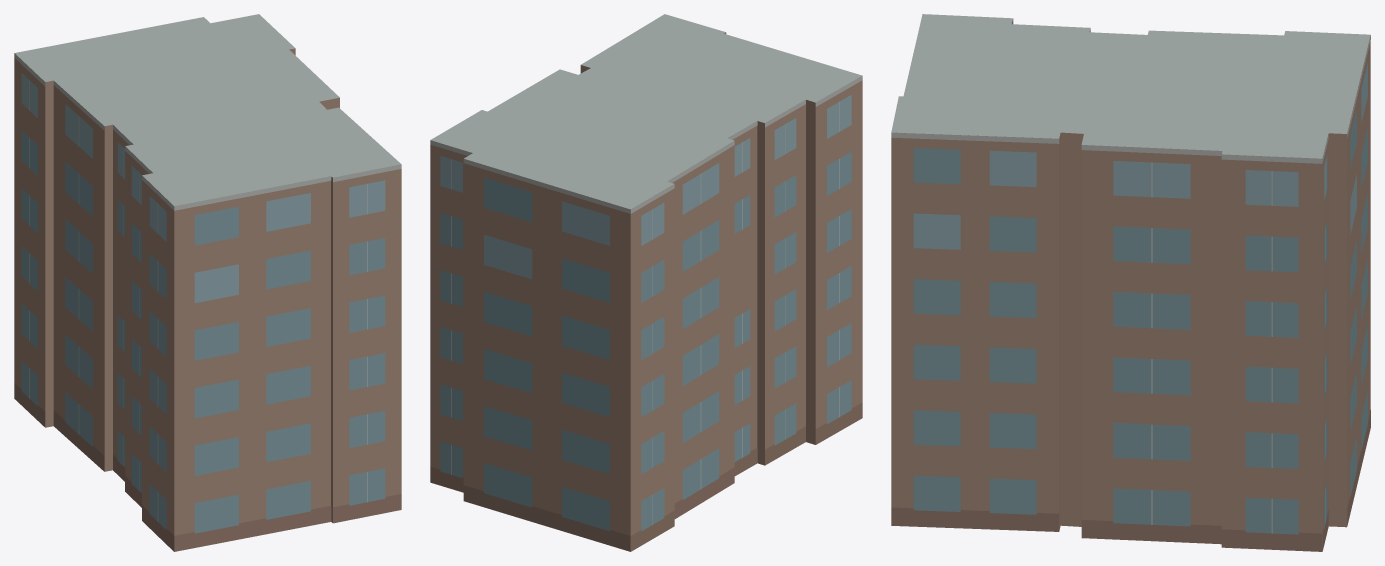
File: survey-upis-32536790.glb
The picture shows the model from 3 angles, left to right: view 1: azimuth 30°, elevation 25°; view 2: azimuth 150°, elevation 25°; view 3: azimuth 270°, elevation 25°; orthographic projection. The views are drawn at different scales.
Parts seen in each view (by area): view 1: survey-upis-32536790.tmp; view 2: survey-upis-32536790.tmp; view 3: survey-upis-32536790.tmp.
Boxes of the visible parts, x1=… form: survey-upis-32536790.tmp: x1=14, y1=14, x2=401, y2=551; survey-upis-32536790.tmp: x1=430, y1=14, x2=862, y2=551; survey-upis-32536790.tmp: x1=891, y1=14, x2=1370, y2=551.
Size of the model in its own units: 14.69 by 18.6 by 20.57.
